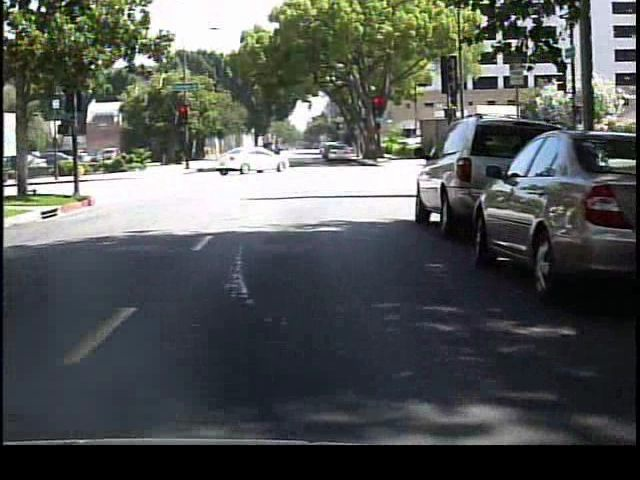person: (273, 140, 288, 171)
